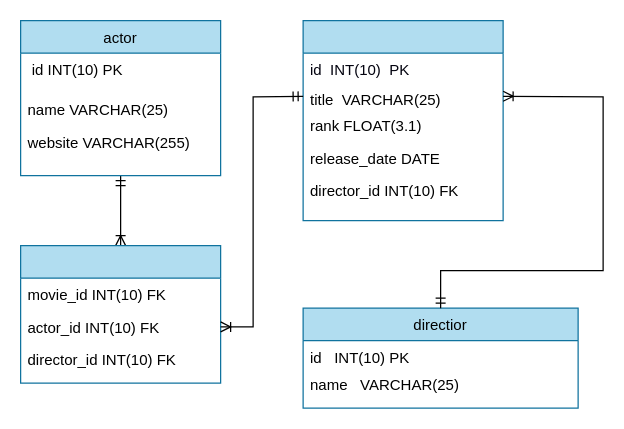
Image size: 624x429. Some labels were removed from this diagram. Each missing label, with the box of its shape:
movie: (302, 19, 503, 221)
movie_actor: (19, 244, 221, 383)
